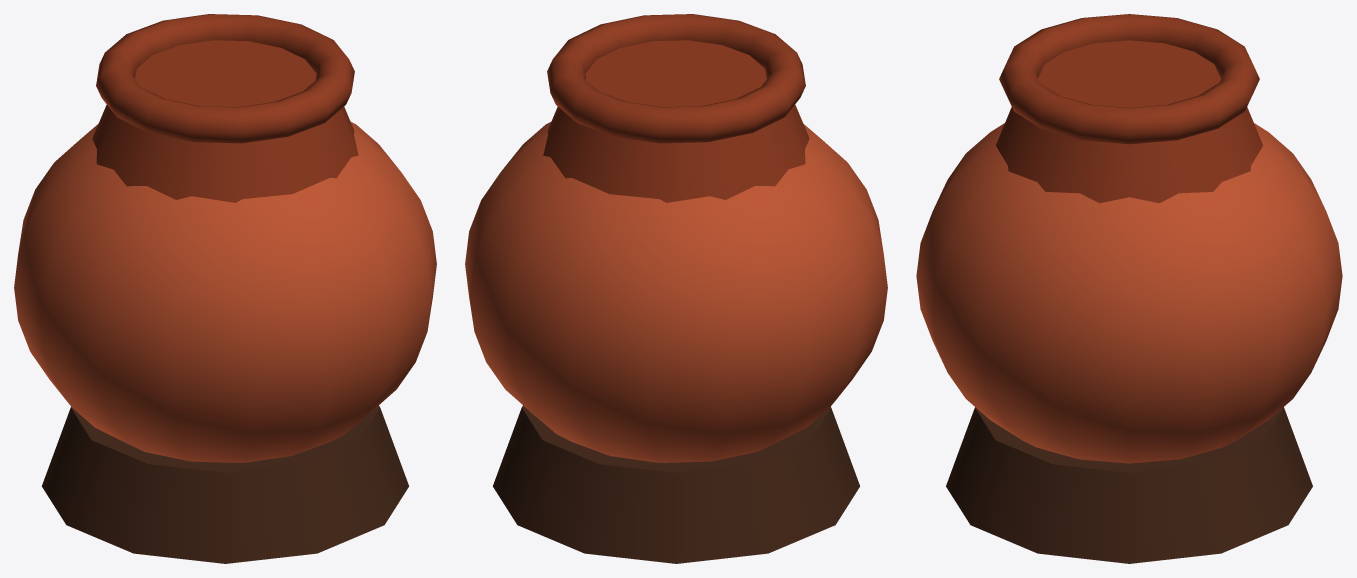
File: clay_jar_kam.glb
3 views of the same model, side by side, from view 1: azimuth 30°, elevation 25°; view 2: azimuth 150°, elevation 25°; view 3: azimuth 270°, elevation 25° (orthographic).
Parts seen in each view (by area): view 1: Khmer_Clay_Jar_Kam; view 2: Khmer_Clay_Jar_Kam; view 3: Khmer_Clay_Jar_Kam.
Boxes of the visible parts, x1=… form: Khmer_Clay_Jar_Kam: x1=14, y1=14, x2=436, y2=563; Khmer_Clay_Jar_Kam: x1=465, y1=14, x2=887, y2=563; Khmer_Clay_Jar_Kam: x1=916, y1=14, x2=1342, y2=563.
Size of the model in its own units: 0.882 by 0.97 by 0.882.
